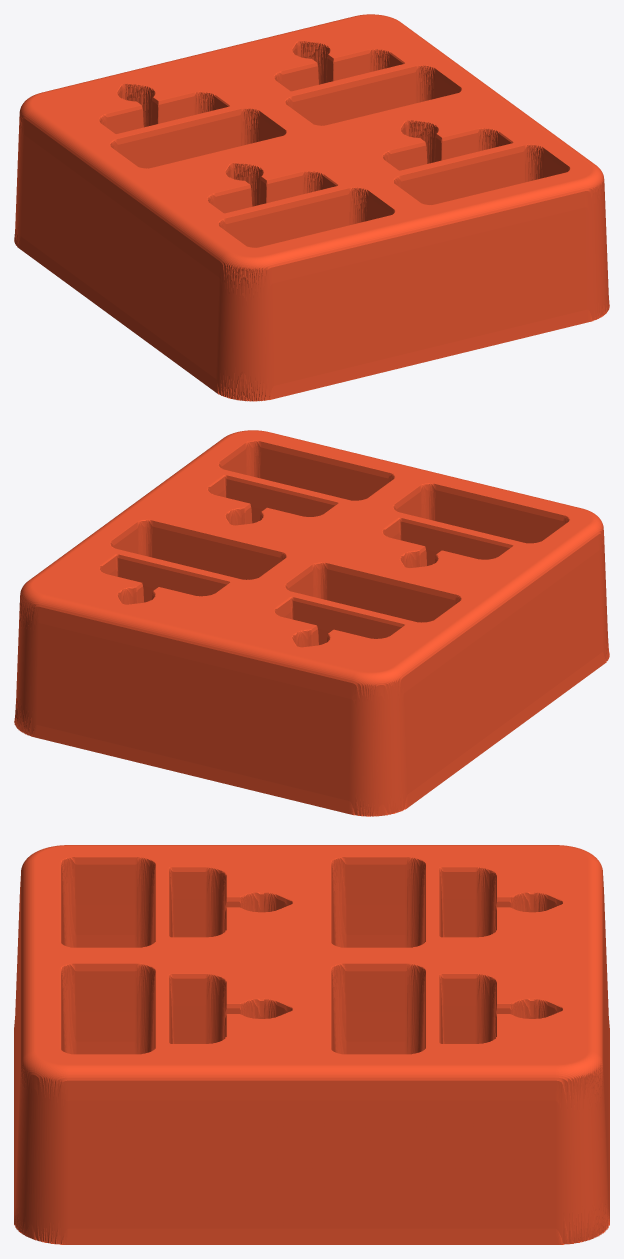
The model's file is mold.glb.
3 views of the same model, one above another, from view 1: azimuth 30°, elevation 25°; view 2: azimuth 150°, elevation 25°; view 3: azimuth 270°, elevation 25° (orthographic). The views are drawn at different scales.
Parts seen in each view (by area): view 1: geometry_0; view 2: geometry_0; view 3: geometry_0.
Part boxes in pixels (bbox=[...]): geometry_0: bbox=[14, 14, 609, 401]; geometry_0: bbox=[14, 430, 609, 816]; geometry_0: bbox=[14, 845, 609, 1244].
Bounding box in the file's own units: 0.0932 × 0.0314 × 0.0992.
